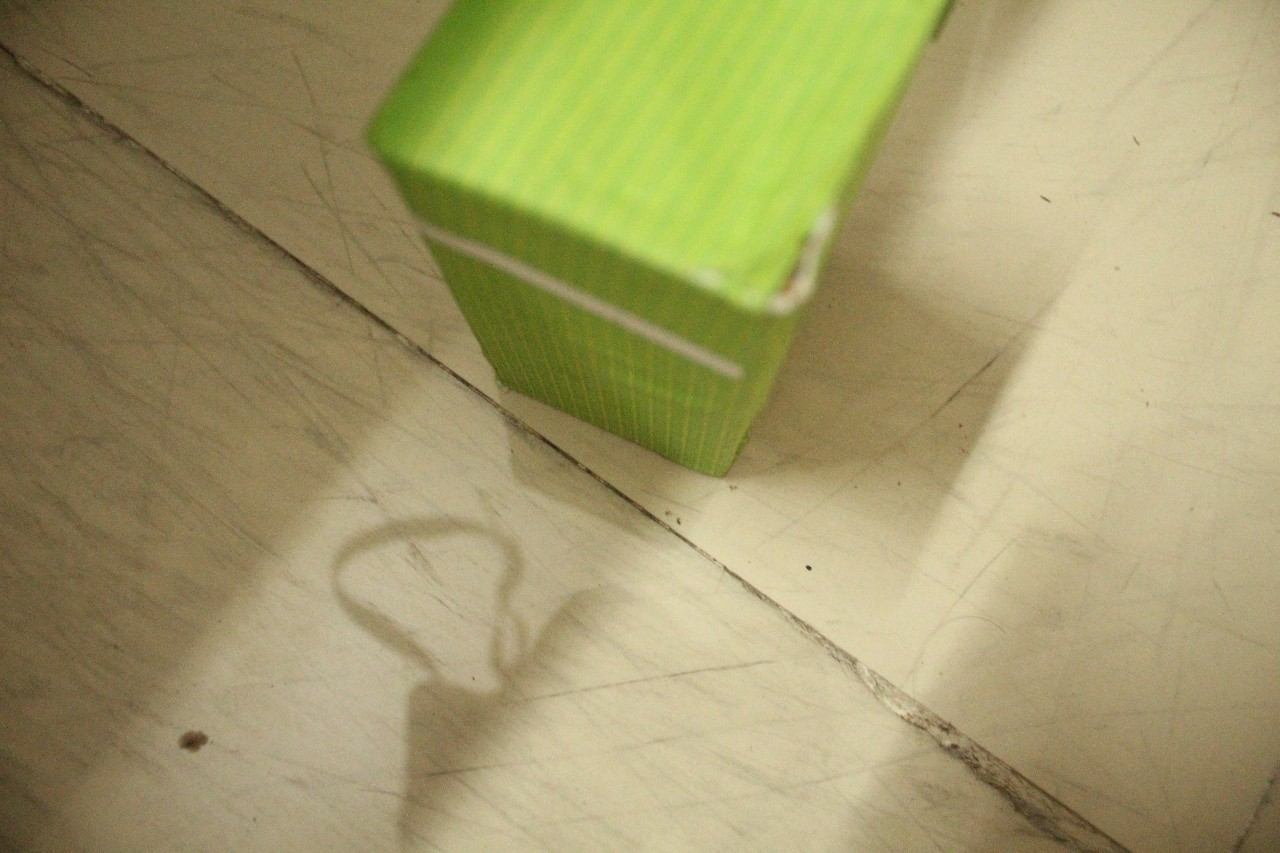green: (334, 0, 985, 525)
